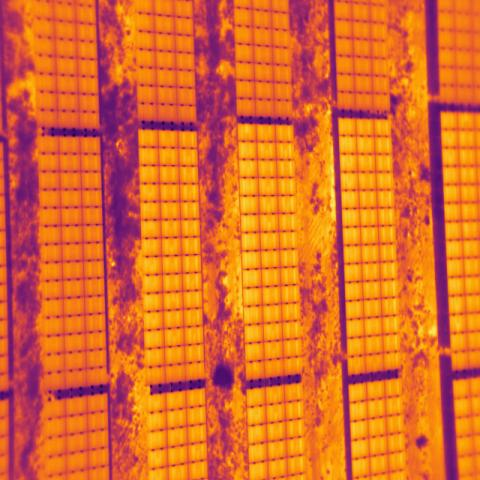fault: (238, 124, 258, 141)
